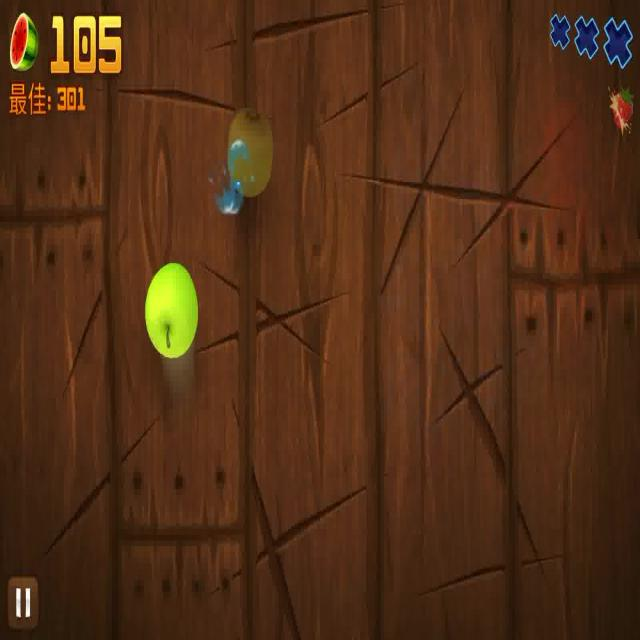fruit: (146, 258, 198, 356), (226, 101, 272, 202)
